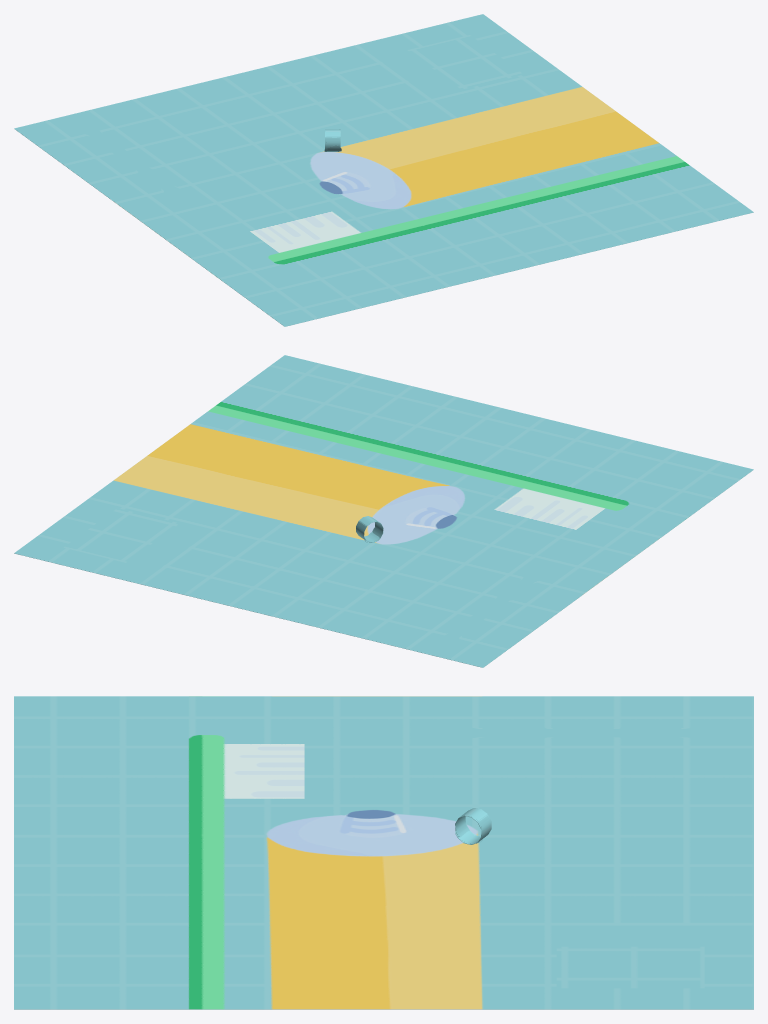
3 views of the same model, one above another, from view 1: azimuth 30°, elevation 25°; view 2: azimuth 150°, elevation 25°; view 3: azimuth 270°, elevation 25° (orthographic). The views are drawn at different scales.
Parts seen in each view (by area): view 1: Mesh, blendmesh; view 2: Mesh, blendmesh; view 3: Mesh, blendmesh, Blend.
Part boxes in pixels (box(x1,y1,x2,y2)): Mesh: box(14, 14, 753, 326); blendmesh: box(139, 177, 363, 256); Mesh: box(14, 355, 753, 667); blendmesh: box(433, 497, 657, 575); Mesh: box(14, 696, 753, 1009); blendmesh: box(277, 696, 411, 813); Blend: box(455, 808, 491, 844).
Size of the model in its own units: 2400 by 102 by 2400.
